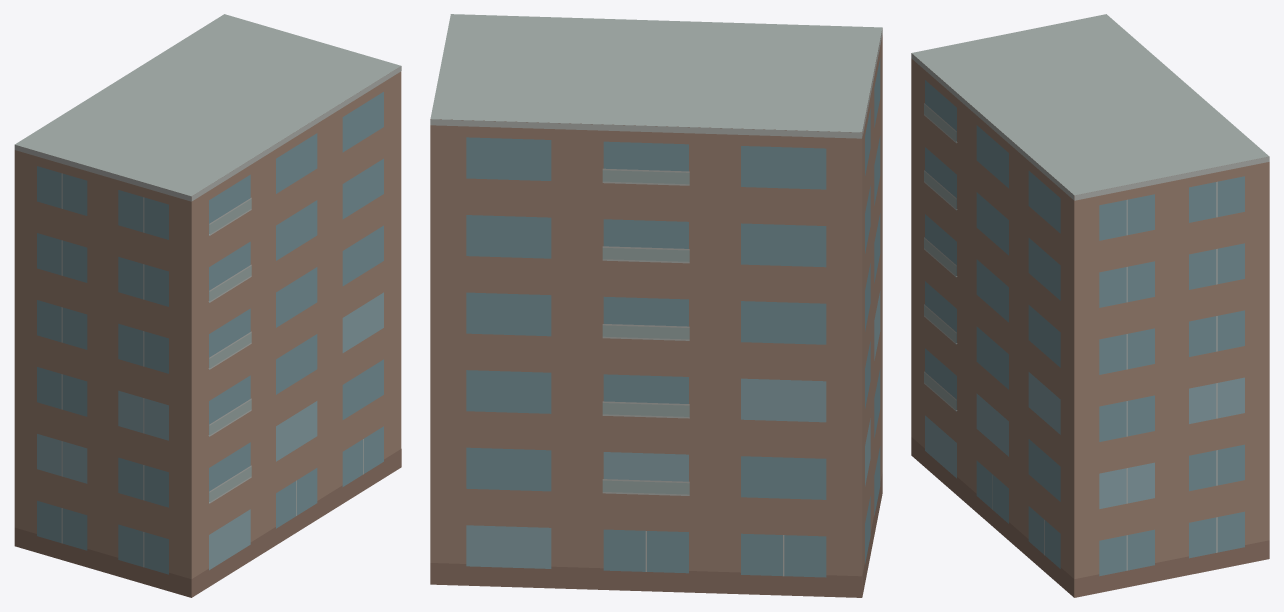
Rendered from survey-upis-32707517.glb.
3 renders of one model, left to right at view 1: azimuth 30°, elevation 25°; view 2: azimuth 150°, elevation 25°; view 3: azimuth 270°, elevation 25°, orthographic. The views are drawn at different scales.
Parts seen in each view (by area): view 1: survey-upis-32707517.tmp; view 2: survey-upis-32707517.tmp; view 3: survey-upis-32707517.tmp.
Part boxes in pixels (box(x1,y1,x2,y2)): survey-upis-32707517.tmp: box(14, 14, 401, 597); survey-upis-32707517.tmp: box(430, 14, 882, 597); survey-upis-32707517.tmp: box(911, 14, 1269, 597).
Size of the model in its own units: 17.7 by 18.3 by 14.76.
